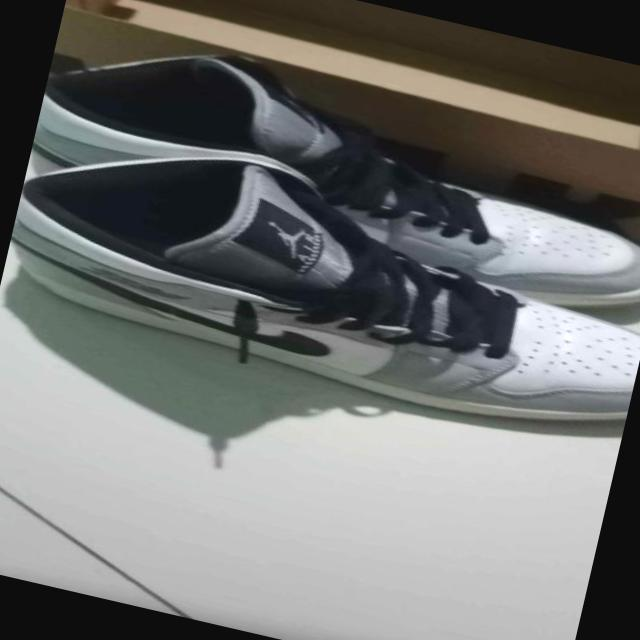nike_original_jordan: (0, 115, 640, 450), (23, 15, 640, 324)
